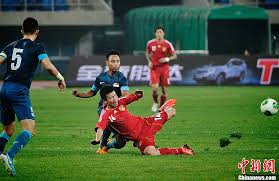fall: (93, 85, 193, 159)
